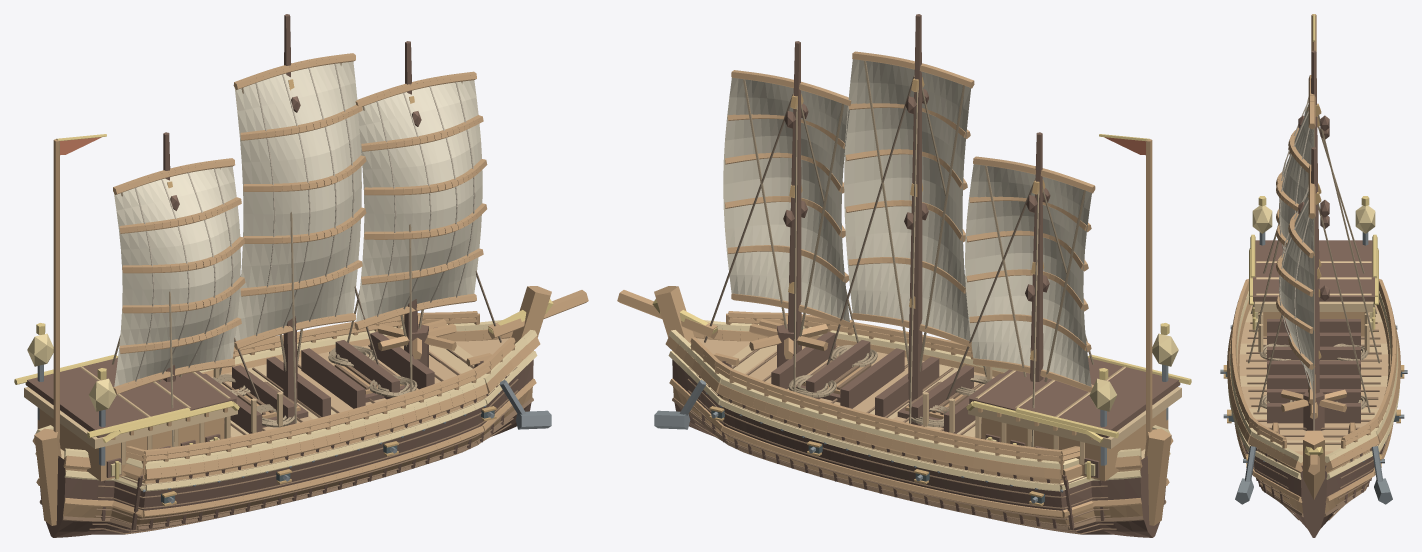
Rendered from javanese_jong-v5-mobile.glb.
3 renders of one model, left to right at view 1: azimuth 30°, elevation 25°; view 2: azimuth 150°, elevation 25°; view 3: azimuth 270°, elevation 25°, orthographic. The views are drawn at different scales.
Visible parts, largest first — view 1: javanese_jong_sails_sail, javanese_jong_rigging_wood, javanese_jong_hull_wood, javanese_jong_hull_darkwood, javanese_jong_hull_pale, javanese_jong_ornament_darkwood, javanese_jong_railings_wood, javanese_jong_deck_darkwood, javanese_jong_hull_seam, javanese_jong_rigging_sailshade, javanese_jong_deck_wood, javanese_jong_masts_darkwood (+13 smaller); view 2: javanese_jong_sails_sail, javanese_jong_hull_wood, javanese_jong_rigging_wood, javanese_jong_hull_darkwood, javanese_jong_masts_darkwood, javanese_jong_hull_pale, javanese_jong_ornament_darkwood, javanese_jong_railings_wood, javanese_jong_deck_darkwood, javanese_jong_hull_seam, javanese_jong_rigging_rope, javanese_jong_masts_rope (+15 smaller); view 3: javanese_jong_ornament_darkwood, javanese_jong_hull_wood, javanese_jong_sails_sail, javanese_jong_deck_darkwood, javanese_jong_hull_deck, javanese_jong_hull_darkwood, javanese_jong_rigging_wood, javanese_jong_railings_wood, javanese_jong_hull_pale, javanese_jong_hull_seam, javanese_jong_masts_darkwood, javanese_jong_masts_rope (+14 smaller).
Boxes of the visible parts, x1,y1,x2,y2 form: javanese_jong_sails_sail: [113, 61, 482, 386]; javanese_jong_rigging_wood: [113, 53, 487, 394]; javanese_jong_hull_wood: [32, 286, 588, 527]; javanese_jong_hull_darkwood: [39, 359, 533, 537]; javanese_jong_hull_pale: [35, 320, 537, 491]; javanese_jong_ornament_darkwood: [203, 331, 434, 438]; javanese_jong_railings_wood: [126, 311, 515, 474]; javanese_jong_deck_darkwood: [25, 357, 236, 477]; javanese_jong_hull_seam: [39, 344, 533, 534]; javanese_jong_rigging_sailshade: [135, 63, 475, 381]; javanese_jong_deck_wood: [37, 408, 227, 481]; javanese_jong_masts_darkwood: [163, 14, 421, 403]; javanese_jong_sails_sail: [723, 59, 1091, 386]; javanese_jong_hull_wood: [617, 286, 1173, 527]; javanese_jong_rigging_wood: [725, 51, 1095, 392]; javanese_jong_hull_darkwood: [672, 359, 1166, 537]; javanese_jong_masts_darkwood: [783, 14, 1050, 403]; javanese_jong_hull_pale: [668, 320, 1170, 491]; javanese_jong_ornament_darkwood: [771, 331, 1002, 438]; javanese_jong_railings_wood: [690, 311, 1079, 474]; javanese_jong_deck_darkwood: [969, 357, 1180, 477]; javanese_jong_hull_seam: [672, 344, 1166, 534]; javanese_jong_rigging_rope: [743, 60, 1085, 381]; javanese_jong_masts_rope: [793, 85, 1093, 446]; javanese_jong_ornament_darkwood: [1267, 319, 1360, 423]; javanese_jong_hull_wood: [1227, 300, 1400, 513]; javanese_jong_sails_sail: [1280, 104, 1313, 391]; javanese_jong_deck_darkwood: [1253, 240, 1374, 301]; javanese_jong_hull_deck: [1239, 305, 1388, 455]; javanese_jong_hull_darkwood: [1242, 441, 1385, 537]; javanese_jong_rigging_wood: [1276, 75, 1315, 404]; javanese_jong_railings_wood: [1231, 279, 1396, 448]; javanese_jong_hull_pale: [1227, 291, 1400, 479]; javanese_jong_hull_seam: [1238, 314, 1389, 520]; javanese_jong_masts_darkwood: [1298, 50, 1329, 393]; javanese_jong_masts_rope: [1248, 115, 1379, 412].
Bounding box in the file's own units: 61.06 × 50.46 × 21.58.
